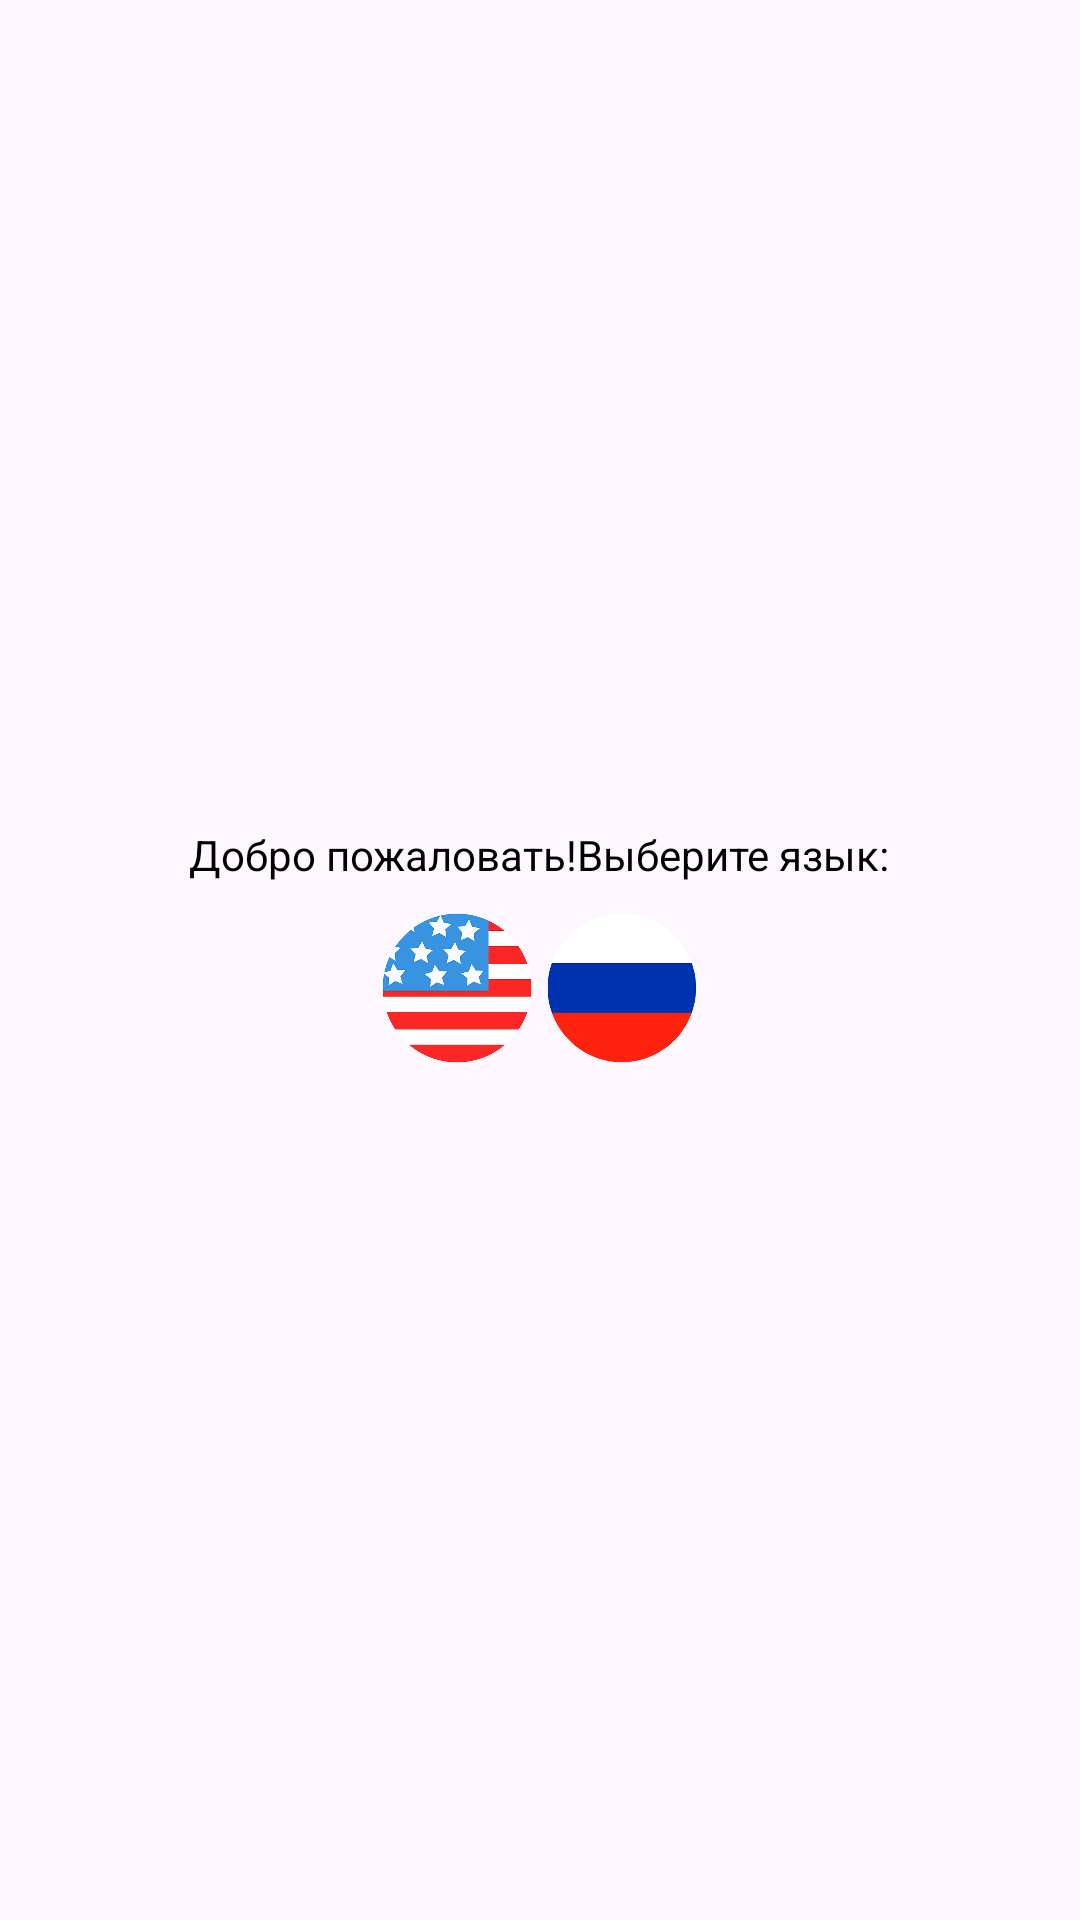

Icon bounding boxes for this 1080x1920 phone screenshot, format (x1, y1, x2, y2):
usa: (382, 913, 532, 1063)
